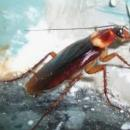cockroach: (25, 25, 124, 96)
